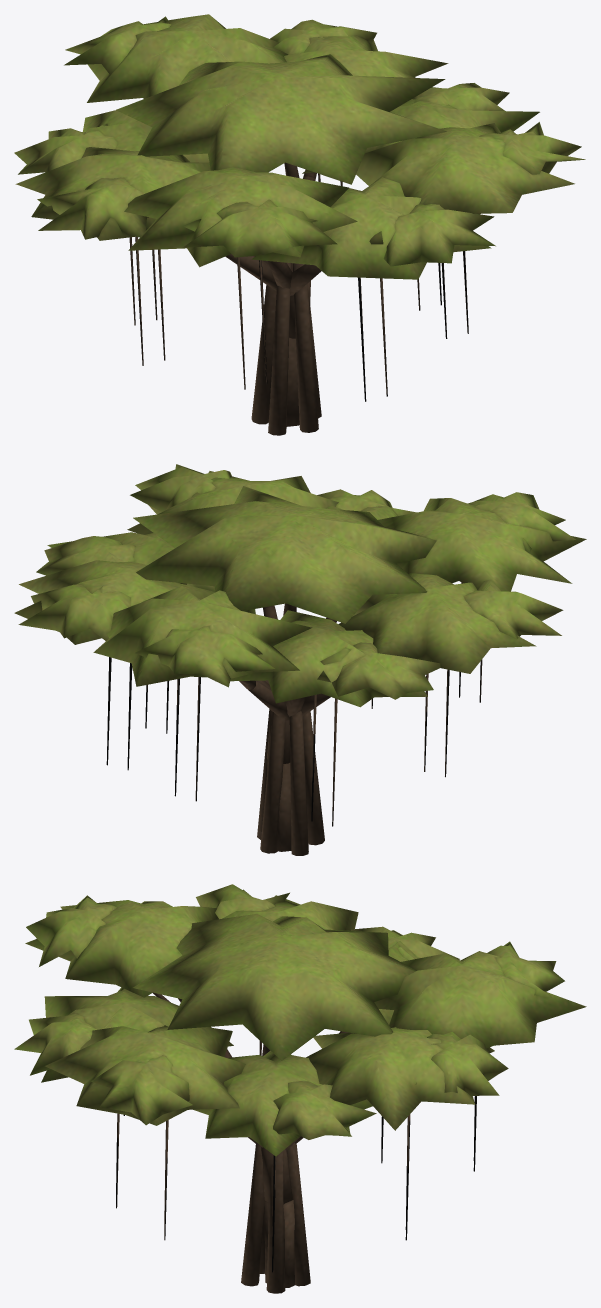
Rendered from tree.glb.
3 renders of one model, top to bottom at view 1: azimuth 30°, elevation 25°; view 2: azimuth 150°, elevation 25°; view 3: azimuth 270°, elevation 25°, orthographic. The views are drawn at different scales.
Parts seen in each view (by area): view 1: Verdant Beringin; view 2: Verdant Beringin; view 3: Verdant Beringin.
Part boxes in pixels (x1,y1,x2,y2): Verdant Beringin: [14, 14, 585, 435]; Verdant Beringin: [14, 464, 586, 855]; Verdant Beringin: [14, 884, 586, 1293].
Bounding box in the file's own units: 10.09 × 6.43 × 9.86.
1 material, 1 textured.
